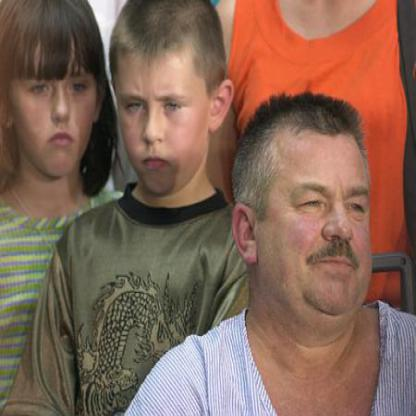face: (255, 97, 381, 332), (115, 1, 215, 197), (9, 1, 101, 181)
